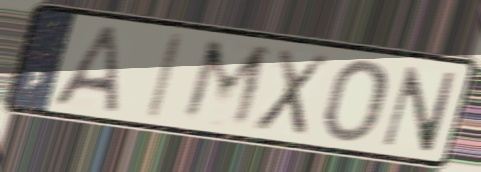A: (49, 23, 121, 114)
I: (142, 30, 187, 123)
M: (176, 35, 276, 134)
N: (377, 63, 462, 155)
O: (319, 57, 392, 146)
X: (249, 45, 334, 139)
